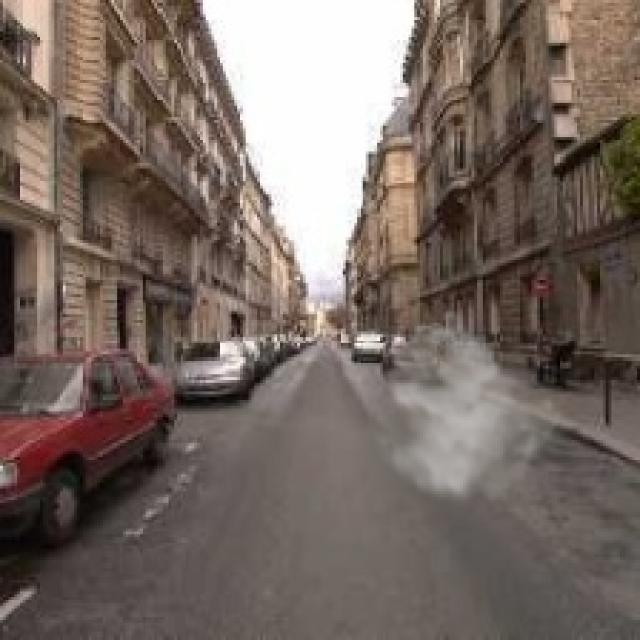smoke: (363, 306, 577, 508)
